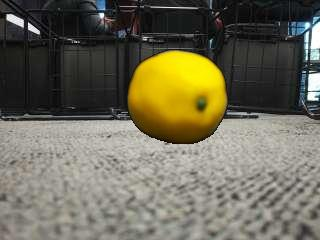lemon: (128, 50, 227, 144)
